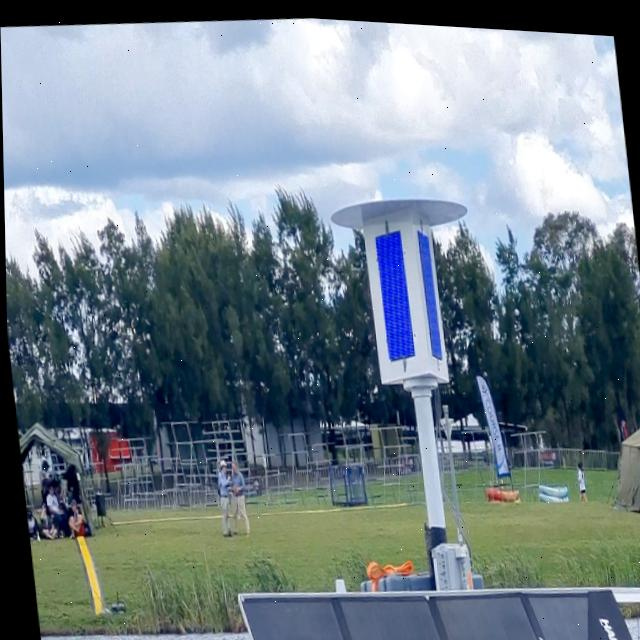led: (365, 221, 419, 368), (412, 213, 444, 362)
